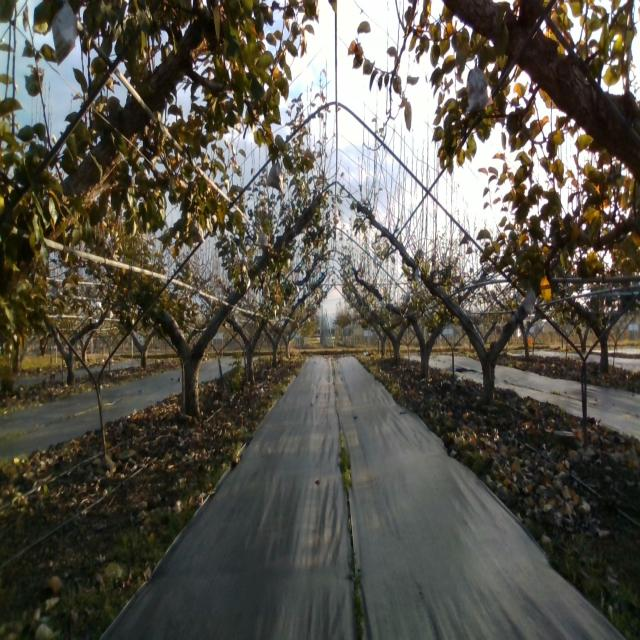pearbags: (51, 0, 77, 65), (466, 57, 489, 112), (266, 157, 284, 195), (188, 218, 206, 244), (523, 280, 536, 315)
